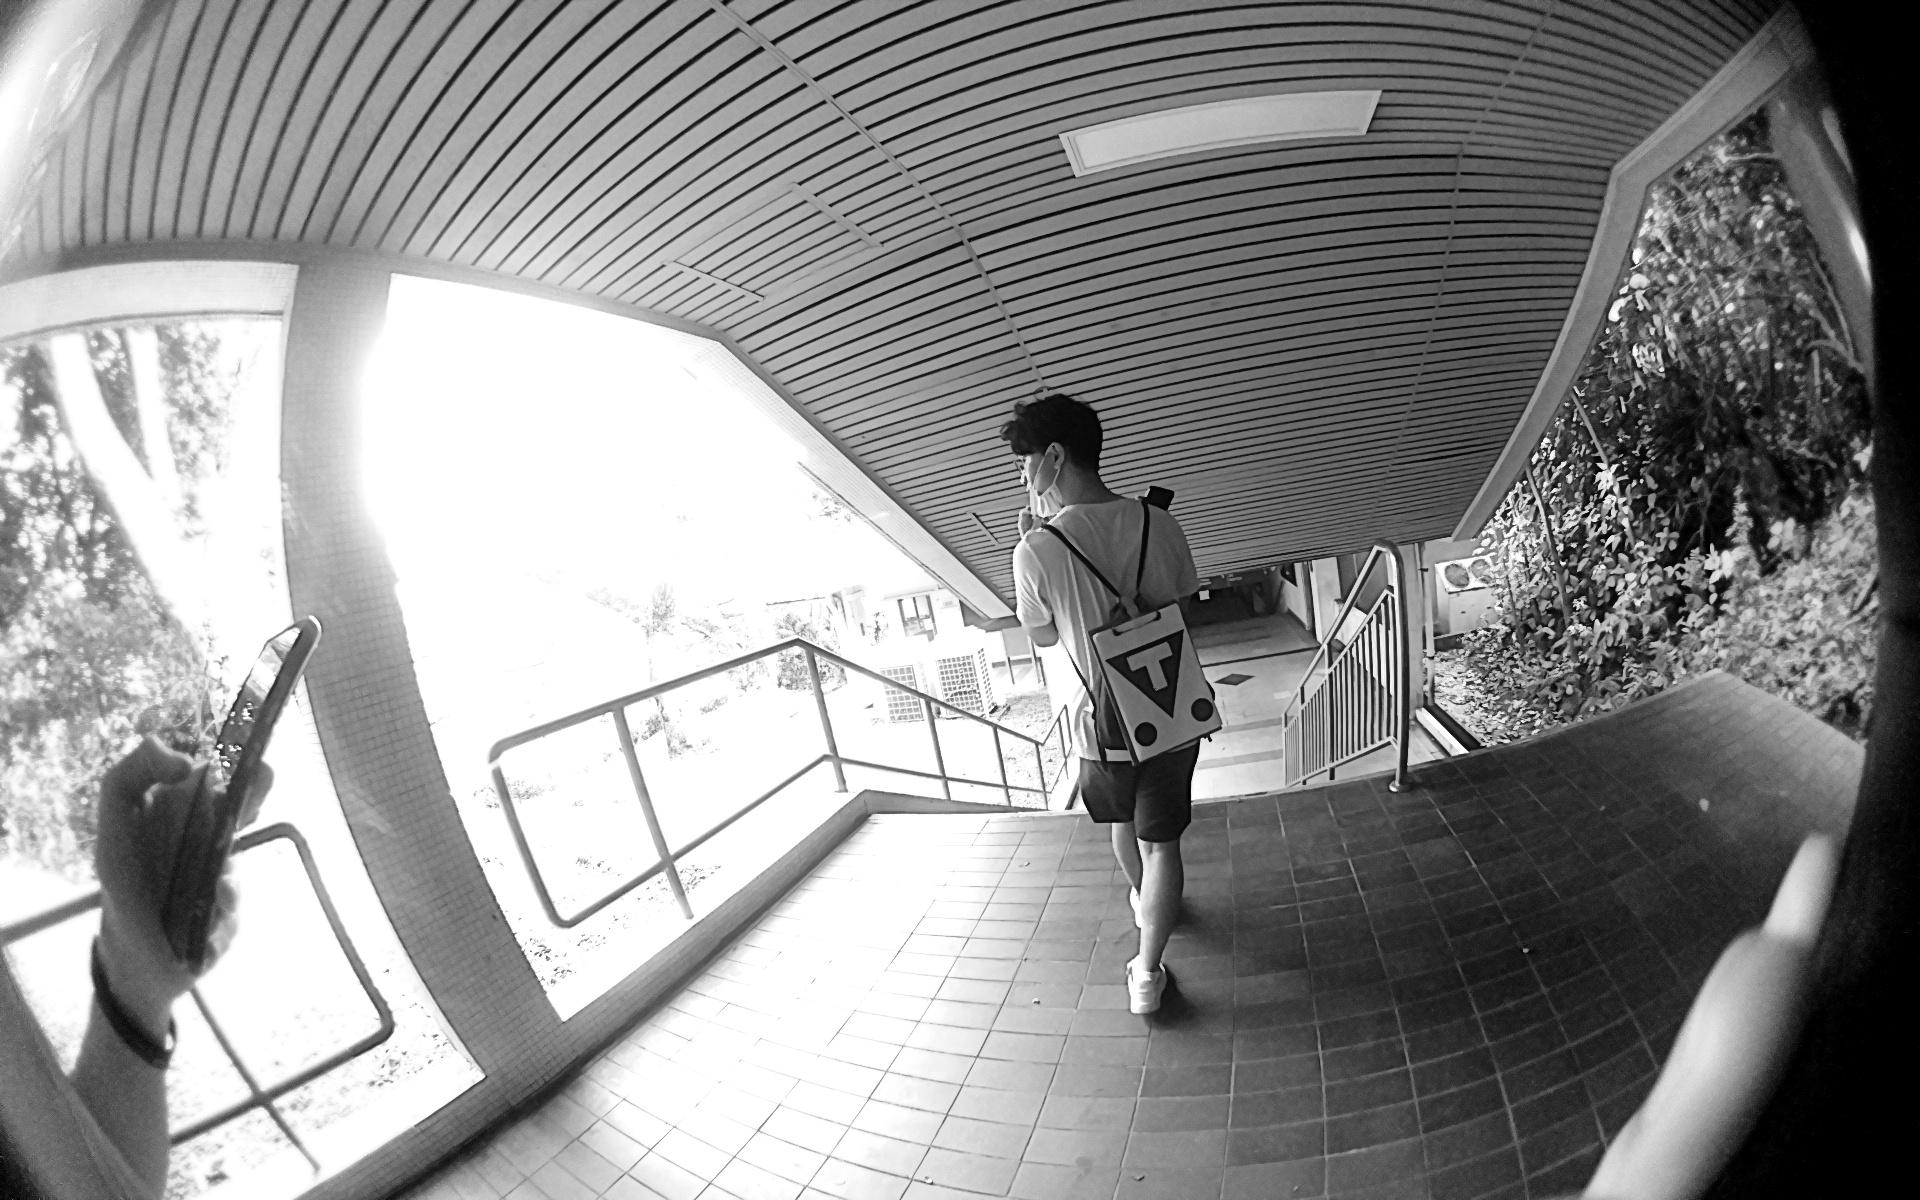fly_lower: (1104, 624, 1223, 759)
